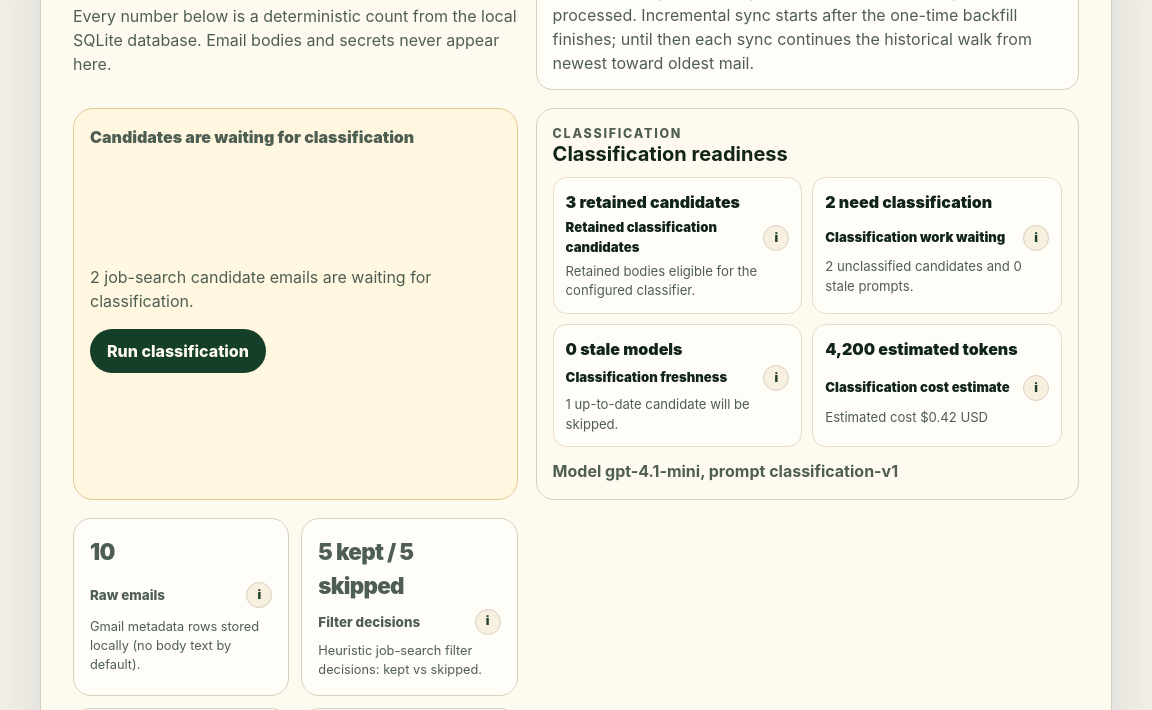
Test case: App › explains classification run results through an accessible info control
(page scrolled)
Click the button "Run classification": (178, 351) top-left (90, 329), bottom-right (266, 373)
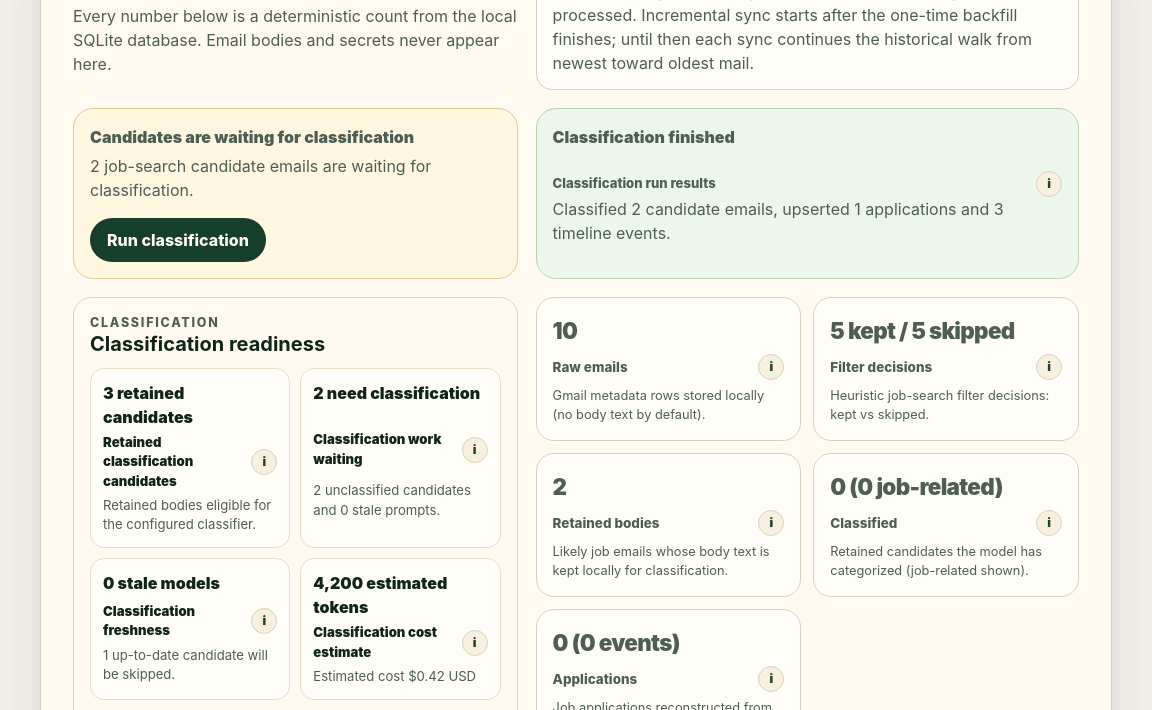
Now the text "Classified 2 candidate emails, upserted 1 applications and 3 timeline events." is shown, box top-left (553, 197), bottom-right (1062, 245)
Now the text "Classification finished" is shown, box top-left (553, 127), bottom-right (735, 147)
Focus the button named "About Classification run results": (1049, 184) top-left (1036, 171), bottom-right (1062, 197)
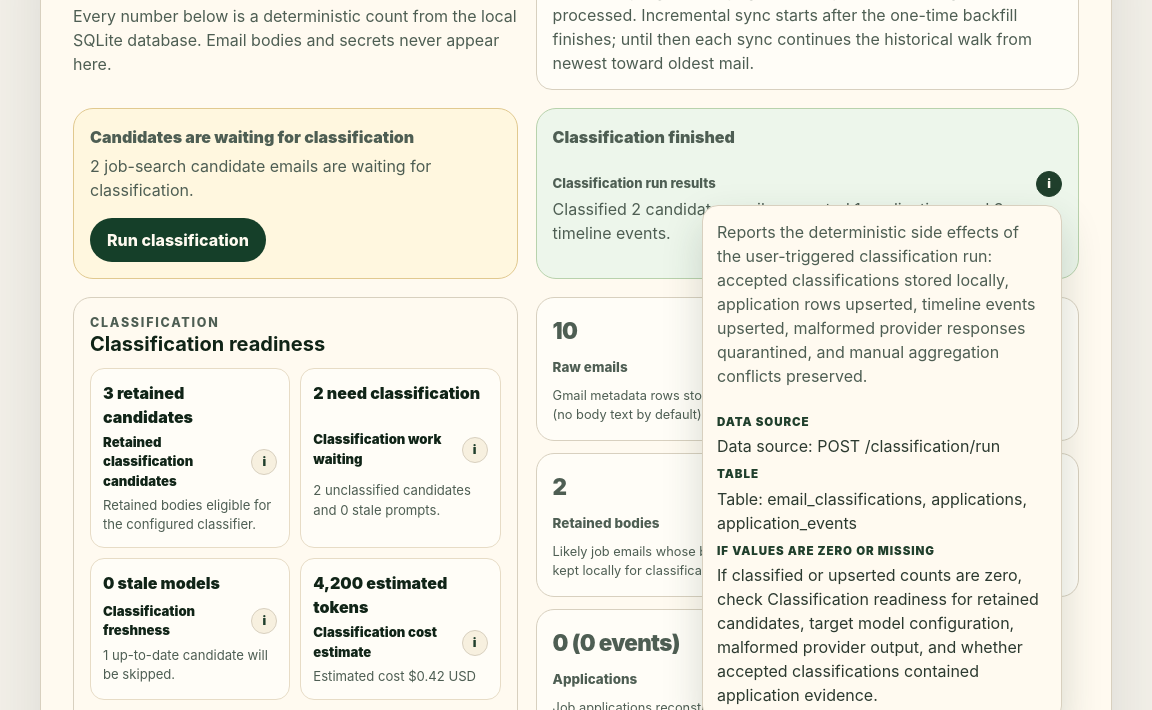
Now the button named "About Classification run results" is expanded, box top-left (1036, 171), bottom-right (1062, 197)
Now the text "Data source: POST /classification/run" is shown, box top-left (717, 434), bottom-right (1047, 458)
Now the text "Table: email_classifications, applications, application_events" is shown, box top-left (717, 487), bottom-right (1047, 535)
